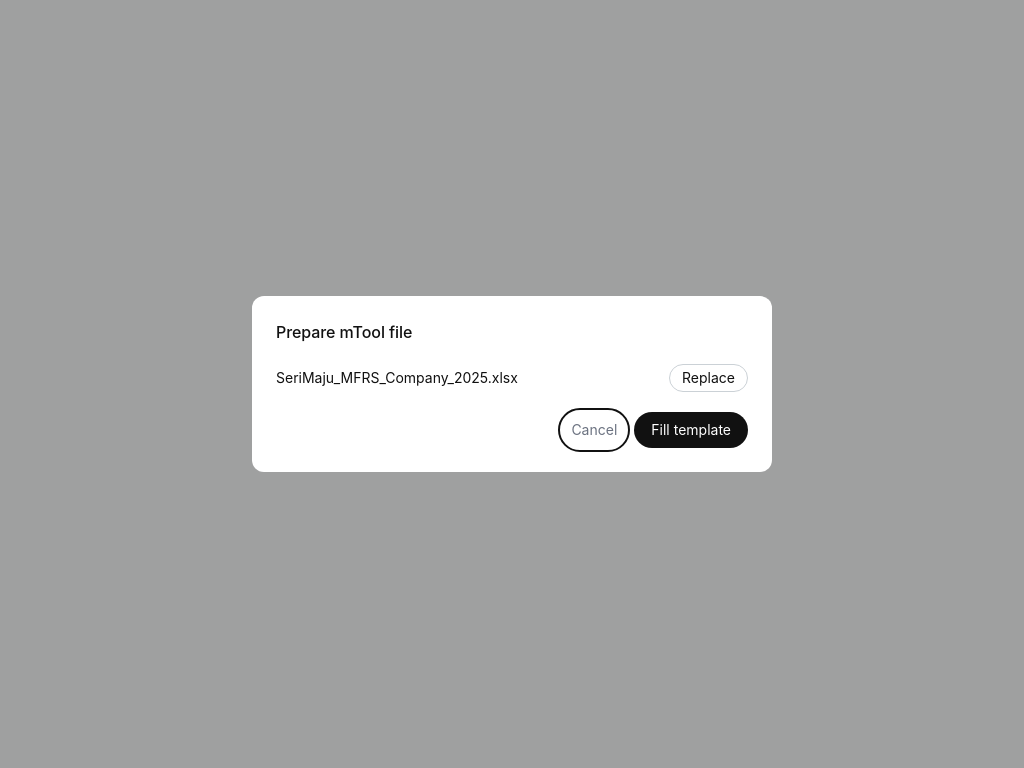
Prepare mTool file › shows the server's sentence when the fill is refused
This screenshot has width=1024, height=768.
Earlier steps of the test are not shown.
What coordinates should you click on to do the following:
click the button "Fill template"
I would click on:
 (691, 430)
Its box is [634,412,748,448].
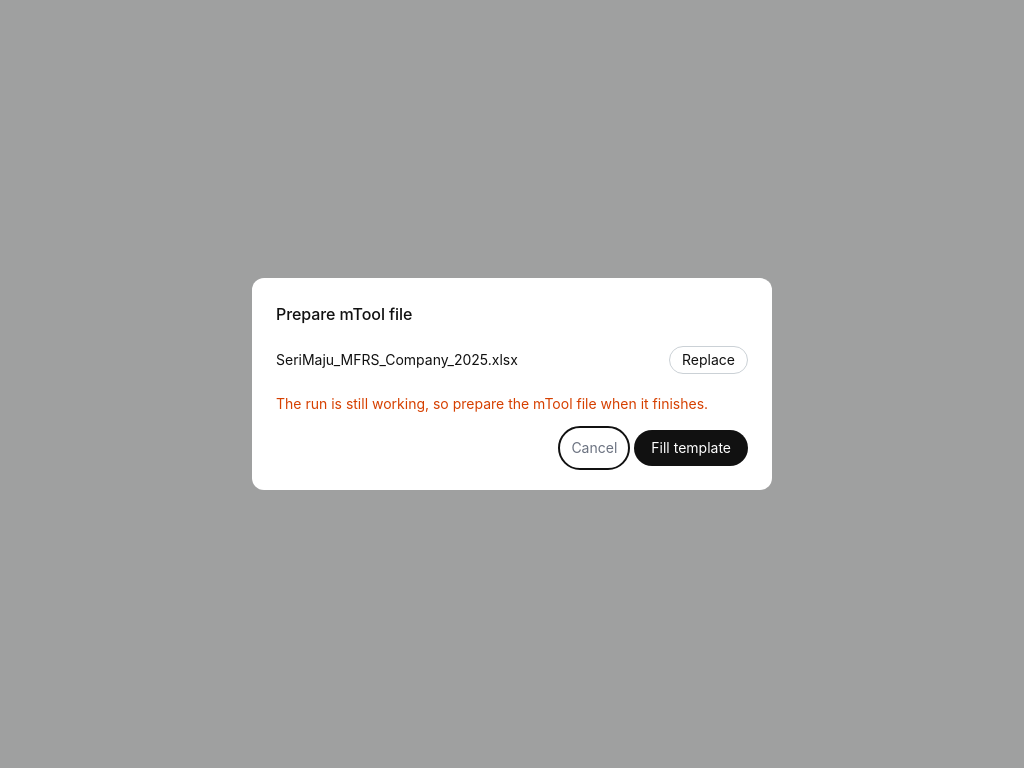
Expected: the message reads "The run is still working, so prepare the mTool file when it finishes.", [276,395,708,412]
